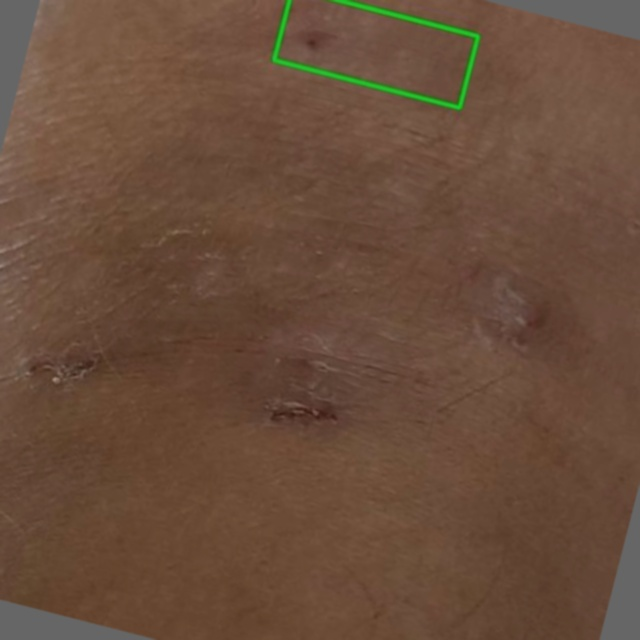Contact Dermatitis: (273, 0, 477, 107)
